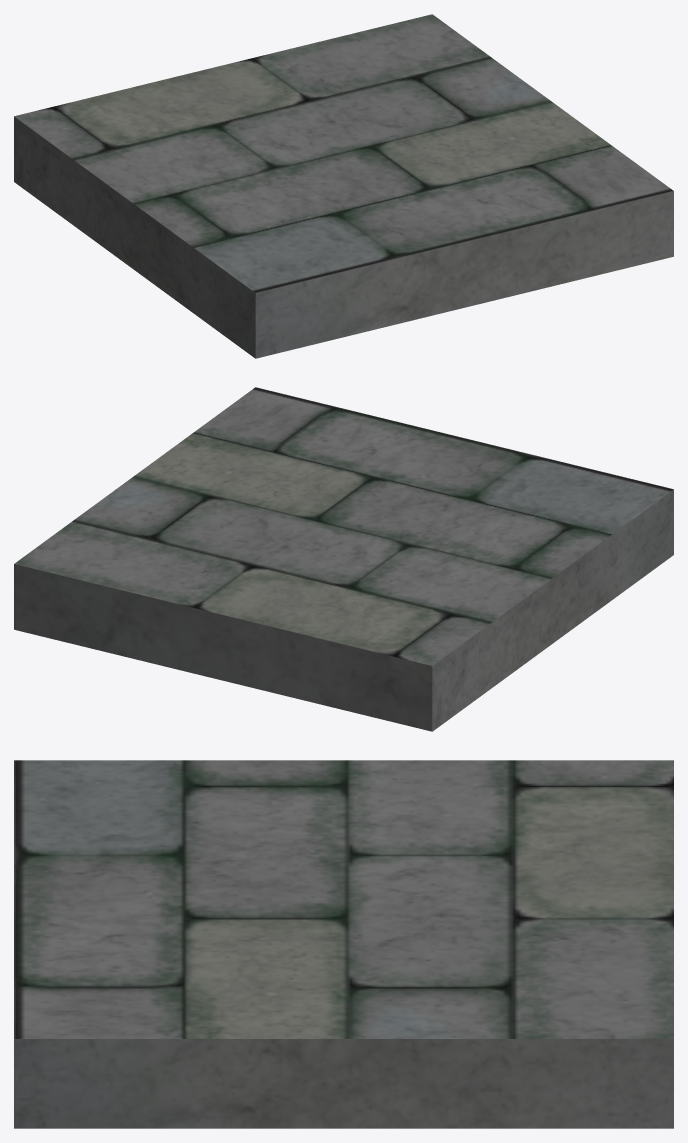
File: floor_small_01.glb
3 renders of one model, top to bottom at view 1: azimuth 30°, elevation 25°; view 2: azimuth 150°, elevation 25°; view 3: azimuth 270°, elevation 25°, orthographic. The views are drawn at different scales.
Visible parts, largest first — view 1: floor_small_01; view 2: floor_small_01; view 3: floor_small_01.
Part boxes in pixels (x1=…): floor_small_01: x1=14, y1=14, x2=673, y2=358; floor_small_01: x1=14, y1=387, x2=673, y2=731; floor_small_01: x1=14, y1=760, x2=673, y2=1128.
Size of the model in its own units: 2 by 0.3 by 2.
1 material, 1 textured.
